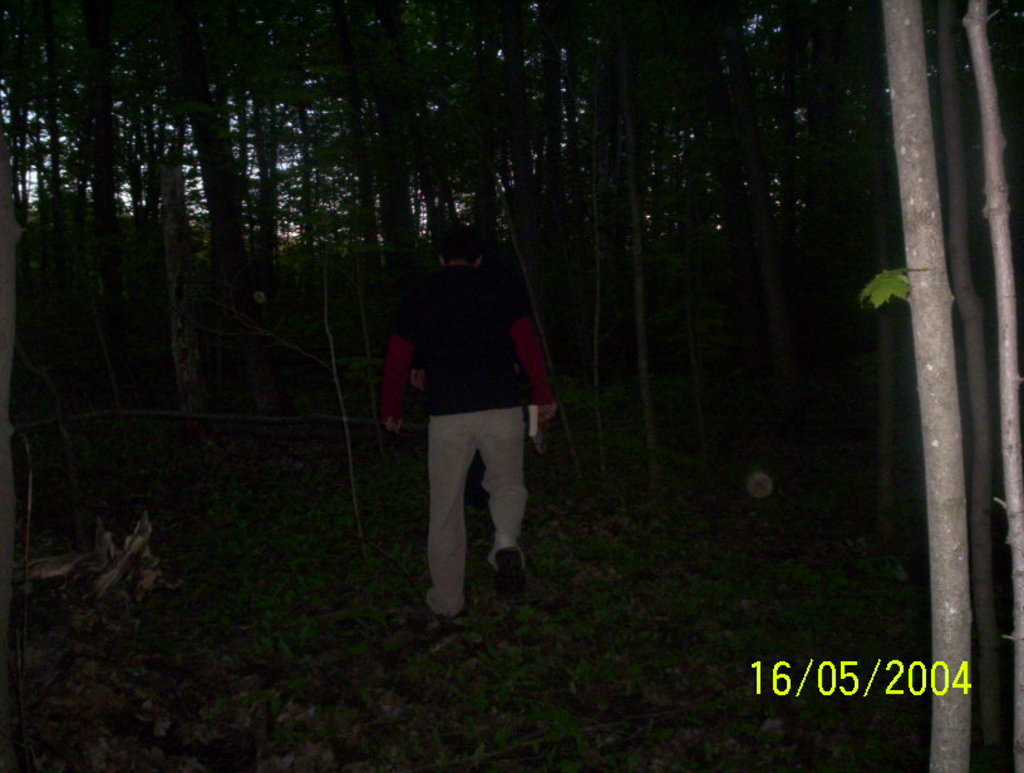Human_hand: (381, 418, 402, 438), (537, 400, 556, 420)
